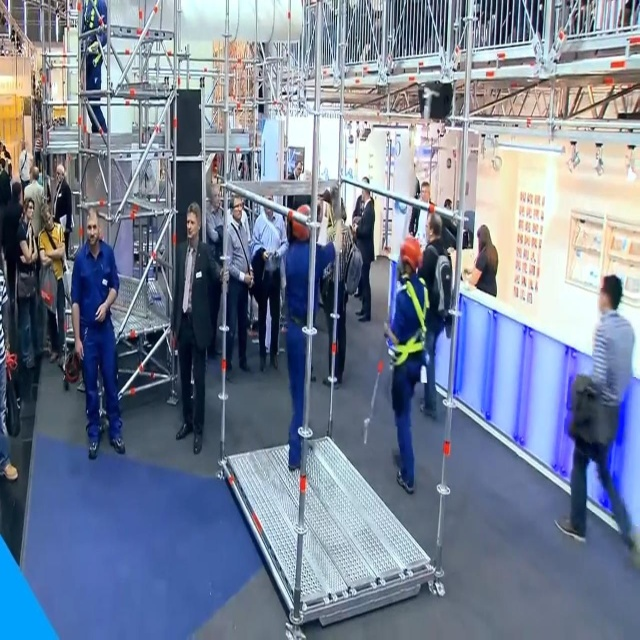Arnes_seguridad: (387, 277, 432, 372), (80, 0, 112, 69)
